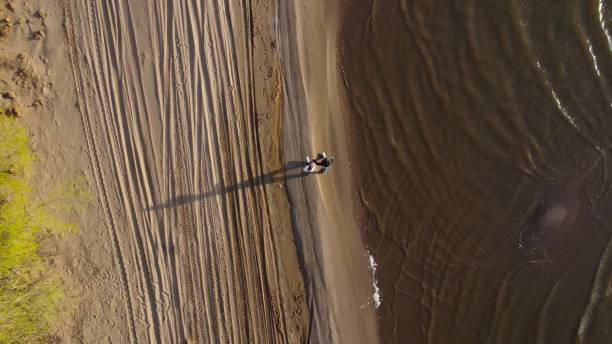vehicle_track: (64, 0, 288, 342), (63, 0, 135, 342)
